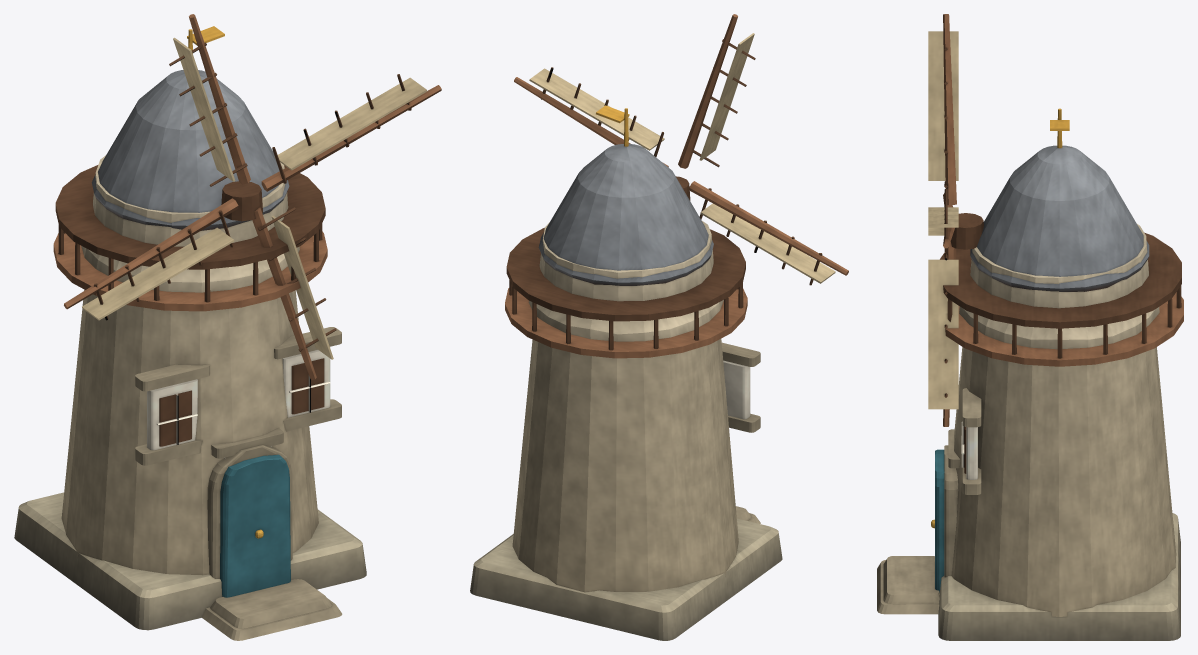
The model's file is windmill.glb.
3 renders of one model, left to right at view 1: azimuth 30°, elevation 25°; view 2: azimuth 150°, elevation 25°; view 3: azimuth 270°, elevation 25°, orthographic. The views are drawn at different scales.
Visible parts, largest first — view 1: Windmill; view 2: Windmill; view 3: Windmill.
Boxes of the visible parts, bbox=[...] form: Windmill: bbox=[14, 14, 441, 640]; Windmill: bbox=[470, 14, 848, 640]; Windmill: bbox=[877, 14, 1183, 640].
Size of the model in its own units: 4.43 by 6.77 by 3.43.
1 material, 1 textured.
